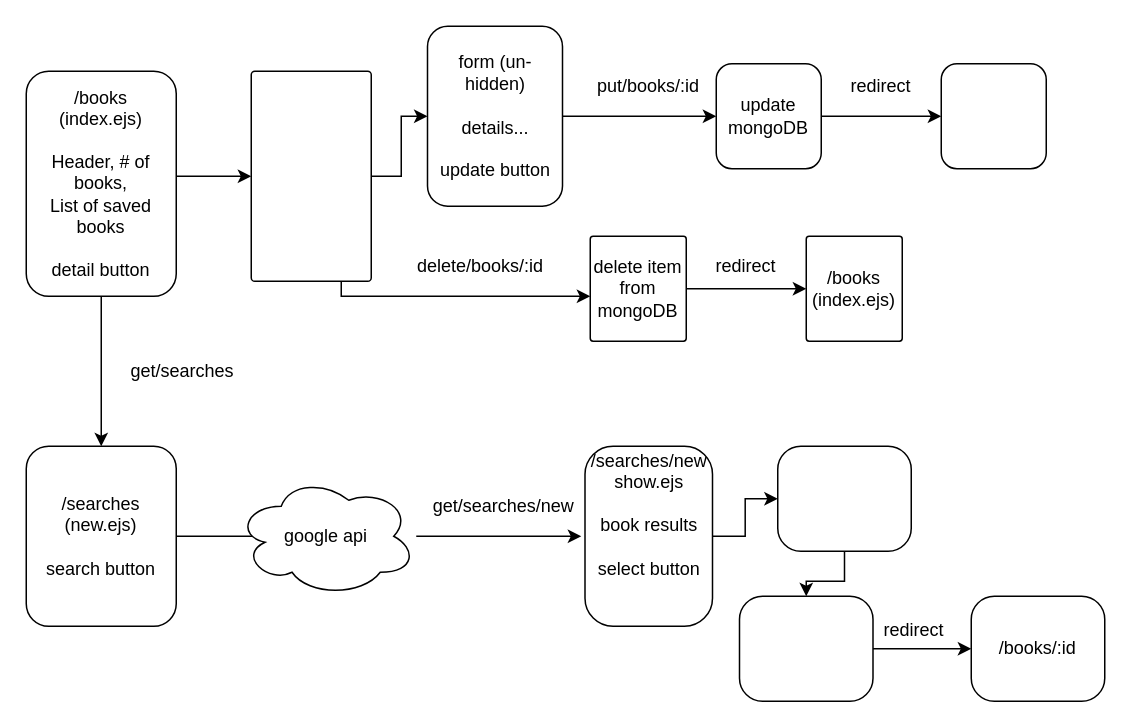
The diagram is 1131 pixels wide and 728 high, and some of its shapes have lost their labels. The shapes that lost their labels are listed below. From the top down, each one's centre as x and y in pixels, then its label:
At point (993, 115): "/books/:id (index.ejs) updated details".
At point (310, 175): "/books/:id (show.ejs) Book details update button delete button".
At point (843, 498): "form add button".
At point (805, 648): "insert mongoDB".
